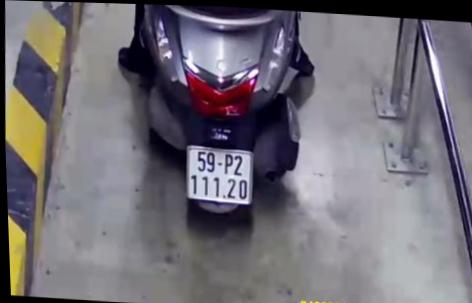LP: (184, 143, 252, 203)
